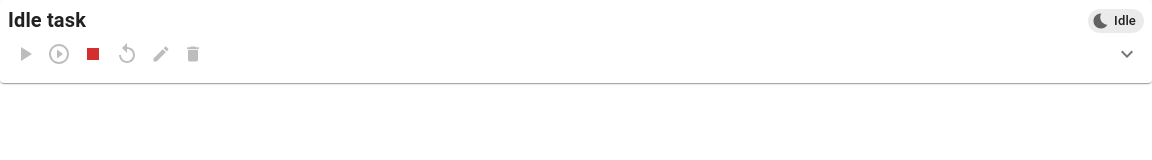
it: TaskDetailHeader › shows the market-closed idle message in Japanese
This screenshot has width=1152, height=160.
Click the button named "Expand header" at [1127, 54], box [1110,37,1144,71]
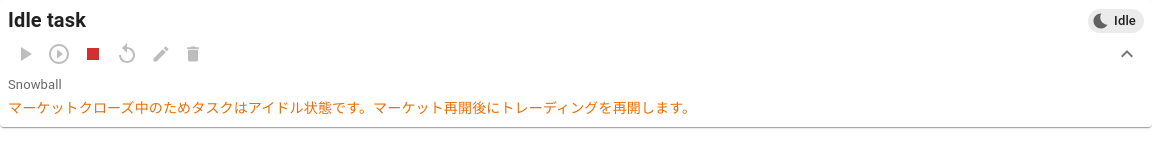
Expected: the text "マーケットクローズ中のためタスクはアイドル状態です。マーケット再開後にトレーディングを再開します。" is shown, [8,98,696,118]
